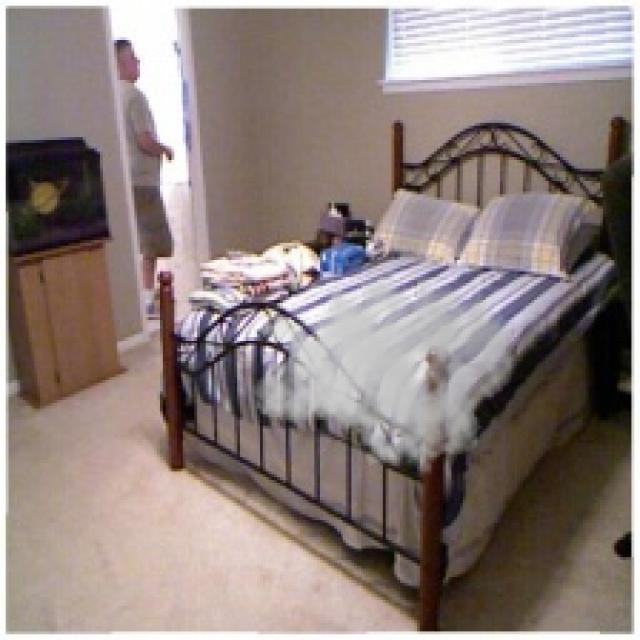Smoke: (252, 252, 517, 479)
